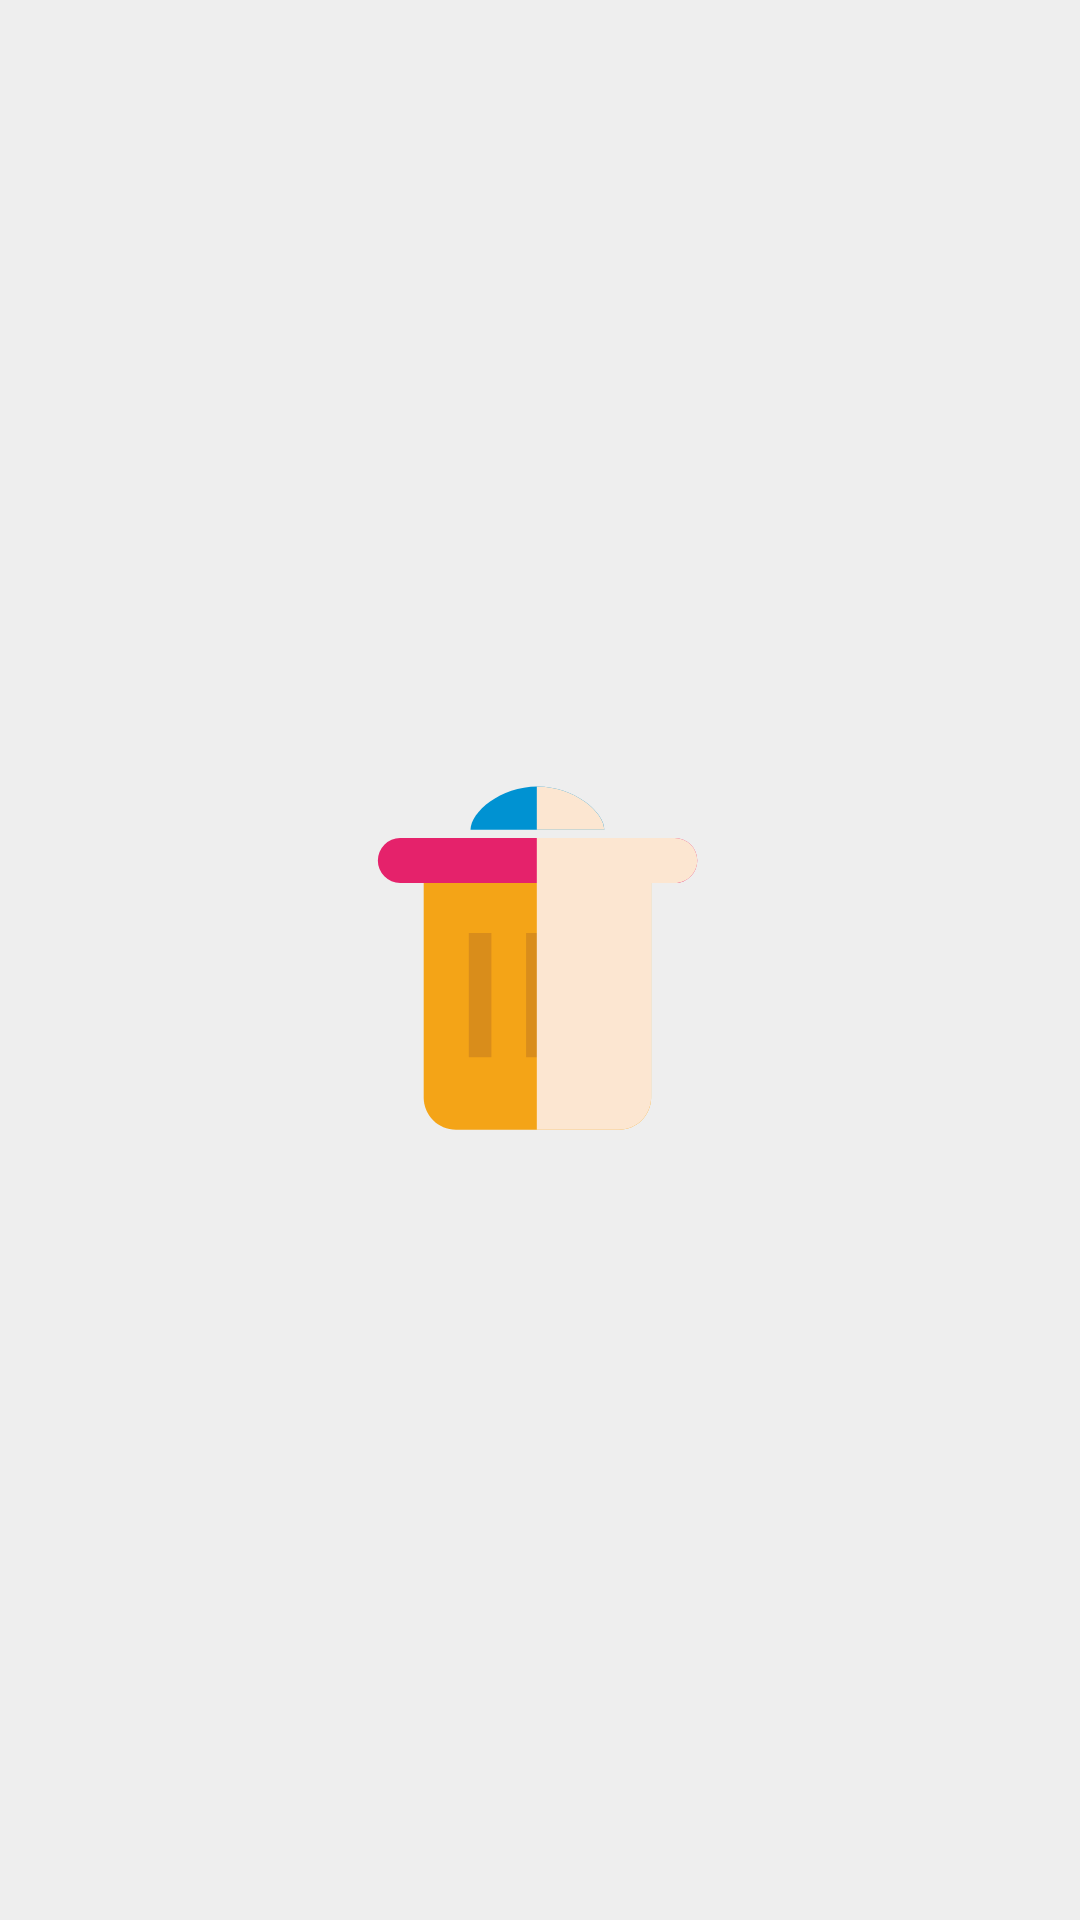

Icon click points for this 1080x1920 phone screenshot, format (x,y):
junk dustbin: (537,958)
